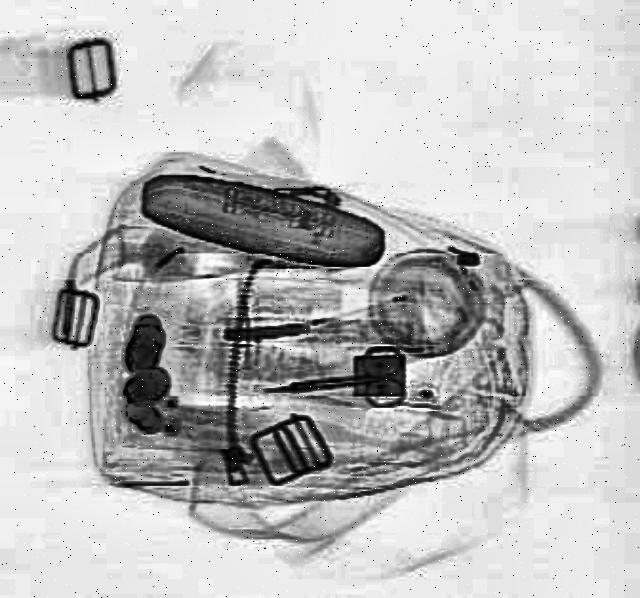Scissors: (267, 342, 413, 418)
